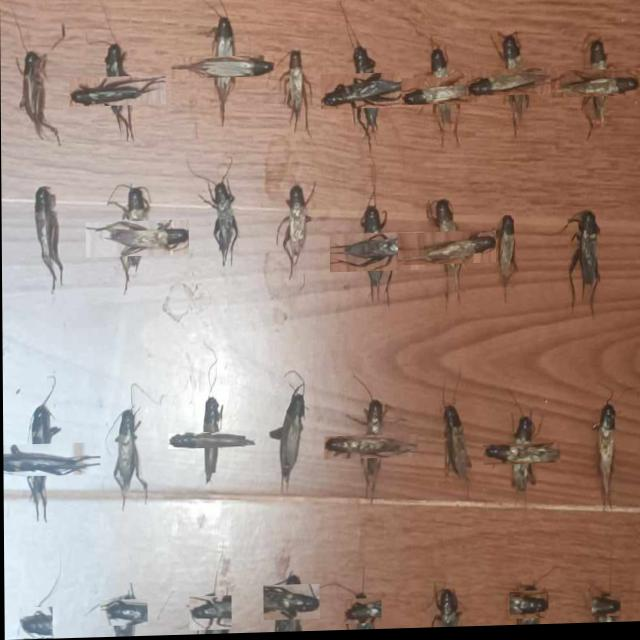no_egg: (268, 389, 304, 493), (330, 236, 425, 274), (85, 222, 188, 257), (321, 75, 414, 111), (398, 234, 496, 267), (3, 444, 100, 476), (20, 51, 56, 137), (569, 214, 599, 313), (34, 186, 63, 288), (70, 76, 165, 107), (277, 187, 309, 278), (113, 409, 144, 497), (467, 72, 563, 99), (208, 178, 237, 265), (402, 78, 488, 107), (550, 74, 640, 100), (171, 57, 274, 79), (595, 405, 615, 511), (325, 438, 418, 460), (444, 408, 469, 487), (282, 52, 307, 129), (262, 588, 319, 621), (483, 446, 560, 467), (189, 596, 231, 631), (168, 433, 255, 449), (497, 219, 515, 288), (100, 601, 147, 626), (19, 606, 52, 639), (508, 595, 548, 622), (433, 591, 460, 630), (344, 600, 381, 626), (590, 601, 620, 620)
